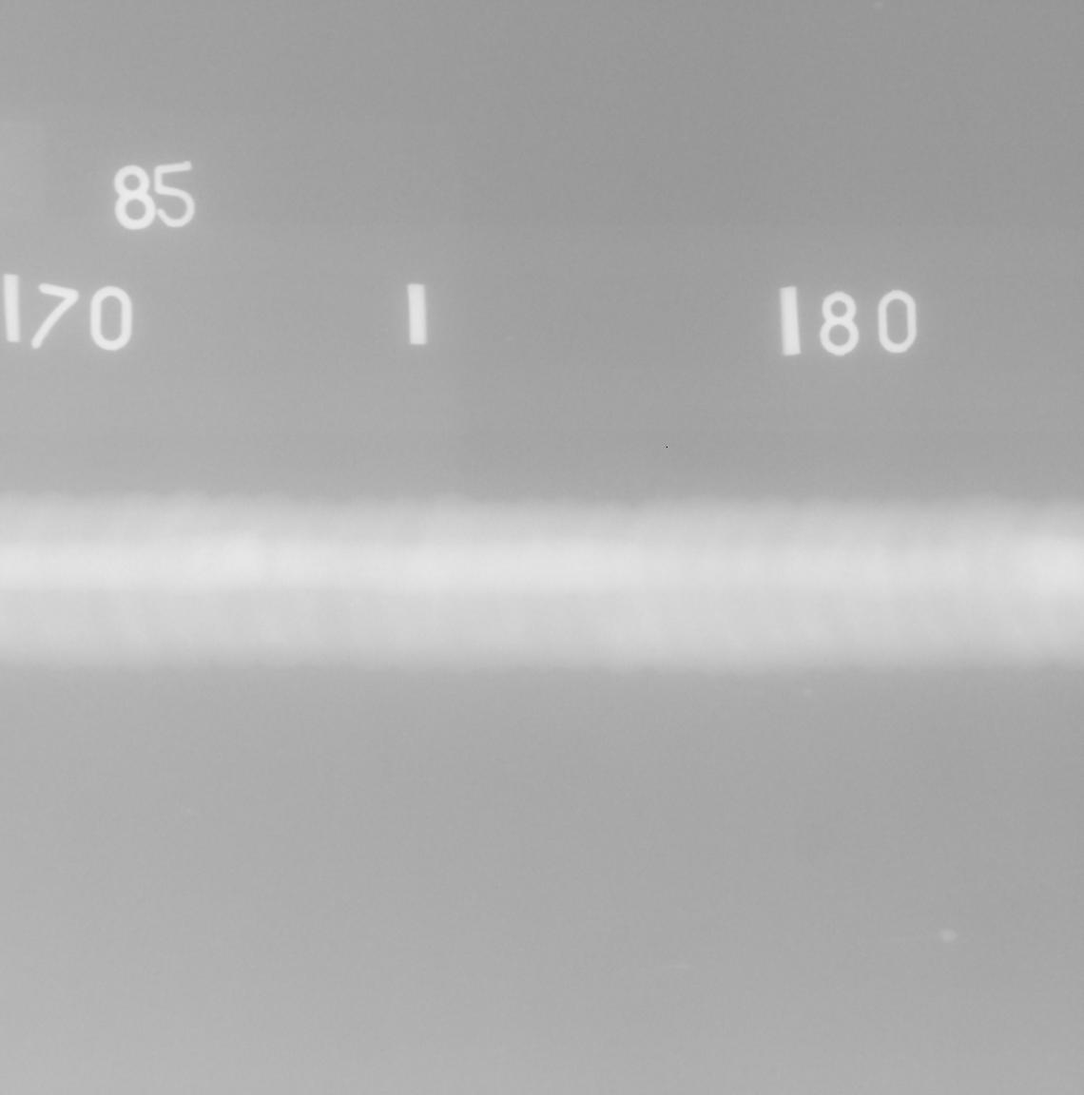Pore/Porosity: (843, 572, 850, 578)
